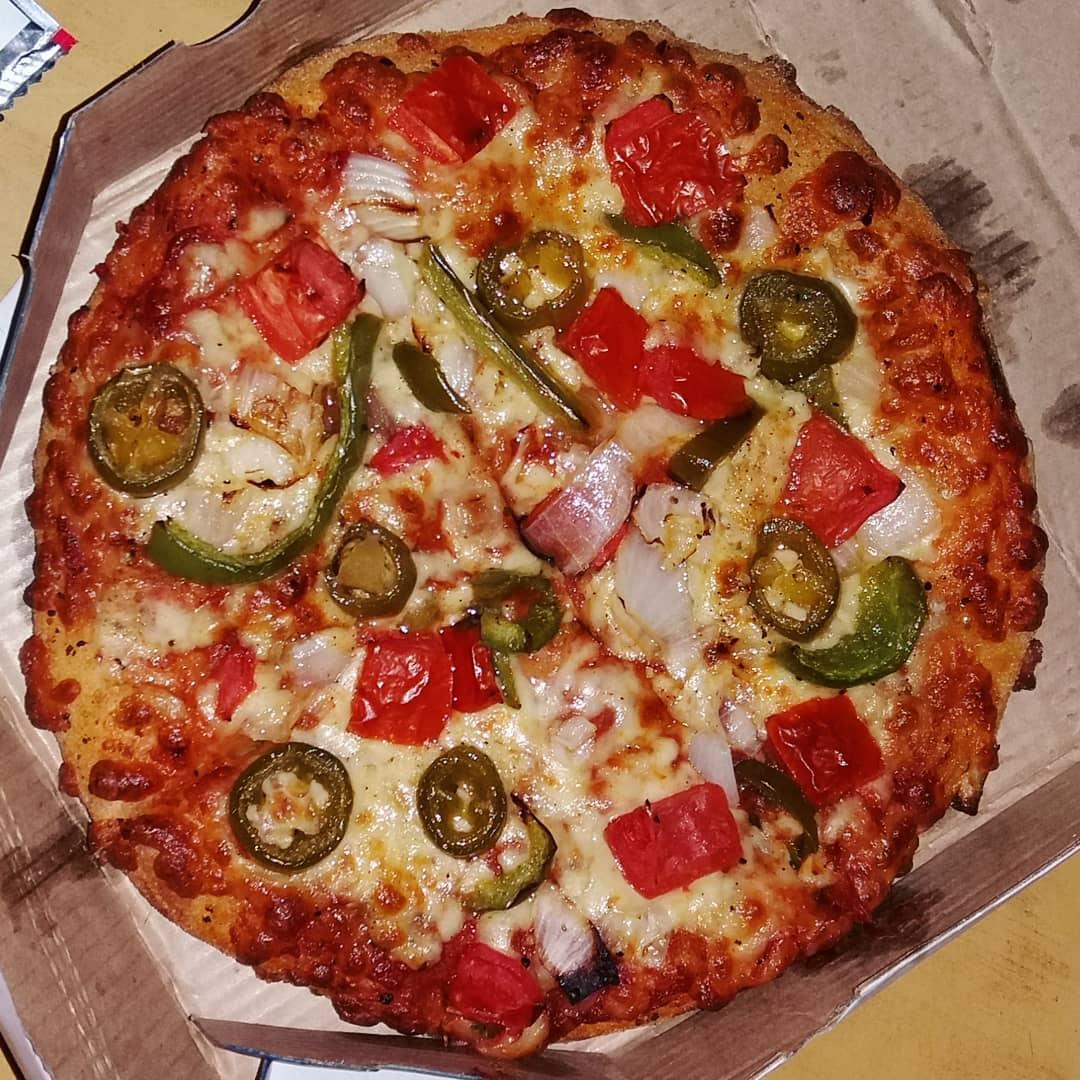Peppers: (786, 556, 929, 686), (304, 316, 386, 525), (367, 630, 500, 746), (227, 747, 351, 868), (776, 419, 898, 540), (611, 102, 738, 210), (89, 368, 200, 489), (463, 793, 564, 915), (251, 242, 361, 352), (619, 792, 748, 881), (746, 273, 856, 376), (410, 56, 511, 162), (747, 518, 837, 635), (418, 745, 512, 855), (146, 527, 336, 577), (475, 237, 588, 320), (770, 707, 885, 786), (609, 217, 730, 288), (641, 345, 745, 424), (328, 527, 413, 617), (574, 299, 639, 402)
Pizza: (28, 28, 1037, 1042)
